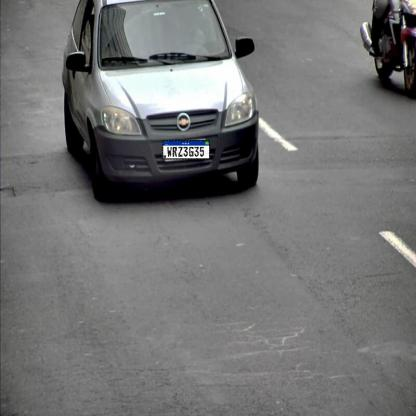PlacaM: (162, 140, 210, 160)
